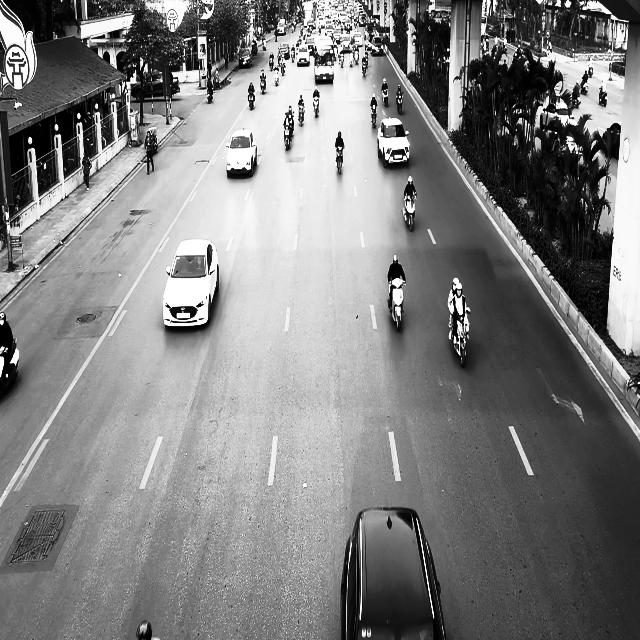car: (340, 506, 447, 639), (162, 238, 220, 328), (377, 116, 410, 168), (225, 128, 257, 178), (131, 70, 180, 102), (540, 95, 575, 131), (238, 48, 252, 68)
motorbike: (449, 308, 470, 368), (0, 337, 19, 396), (387, 278, 406, 331), (402, 192, 417, 231), (283, 121, 293, 150), (335, 145, 344, 174), (297, 102, 305, 126), (370, 104, 377, 128), (598, 88, 607, 106), (248, 90, 255, 110), (396, 94, 403, 114), (313, 95, 319, 117), (260, 76, 266, 94), (382, 88, 388, 106), (207, 86, 213, 103), (274, 67, 279, 85)
